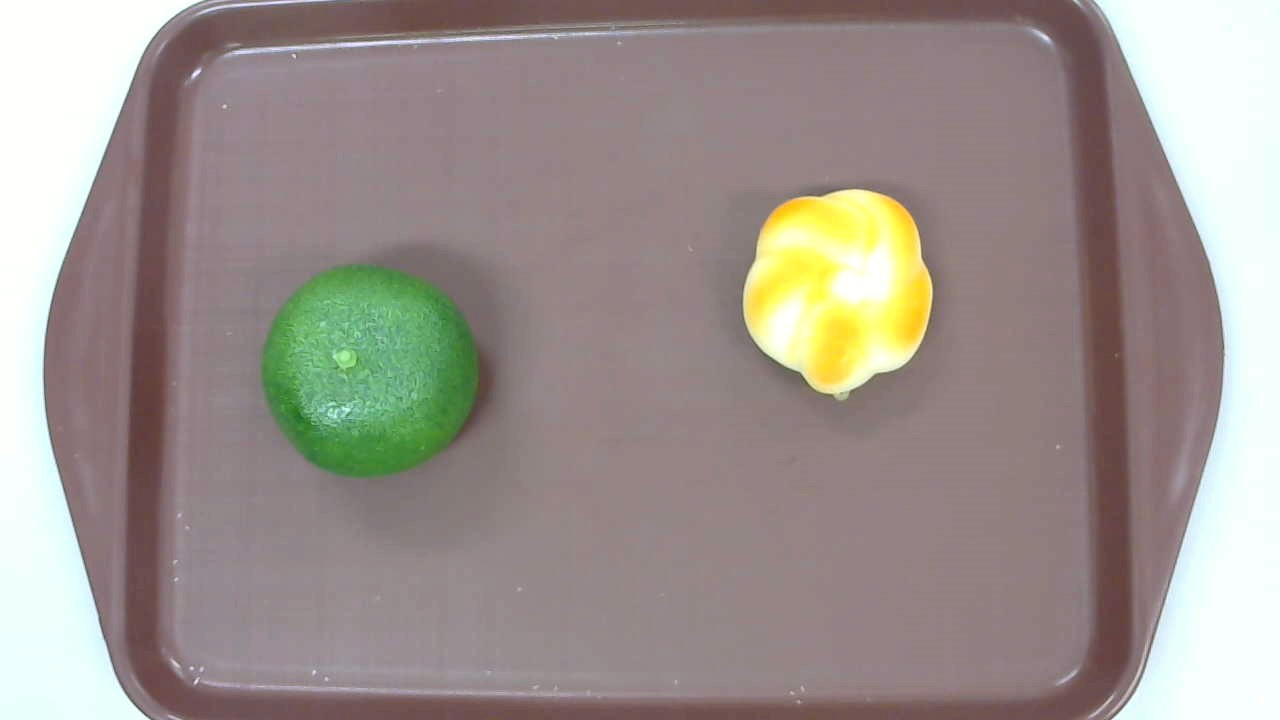green orange: (260, 263, 480, 483)
twist bread: (743, 189, 934, 403)
